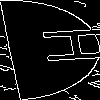H: (25, 25, 100, 66)
